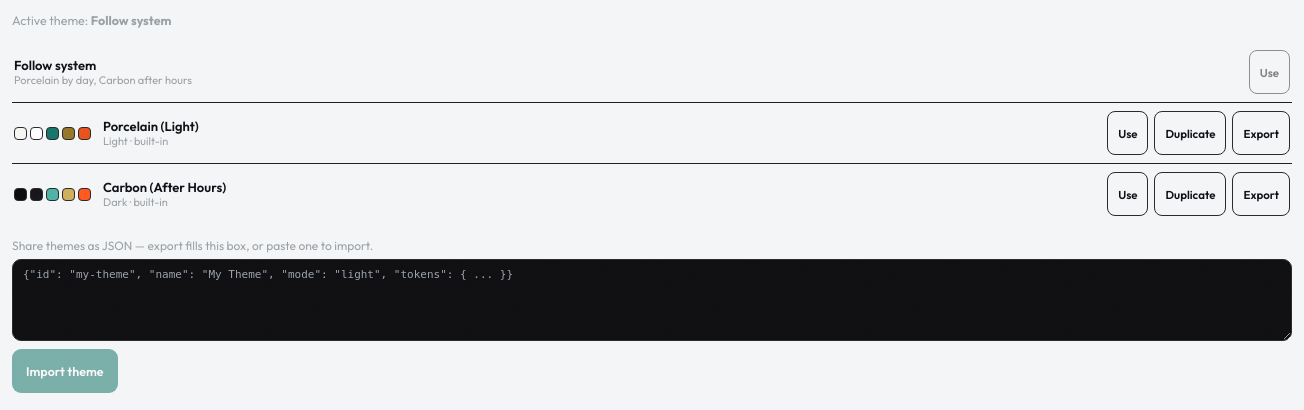
Test: ThemeStudio › activates a theme and persists the selection
The image size is (1304, 410).
Click the button "Use" in the row of "Carbon (After Hours)": {"x": 1128, "y": 194} [1107,172,1148,216]
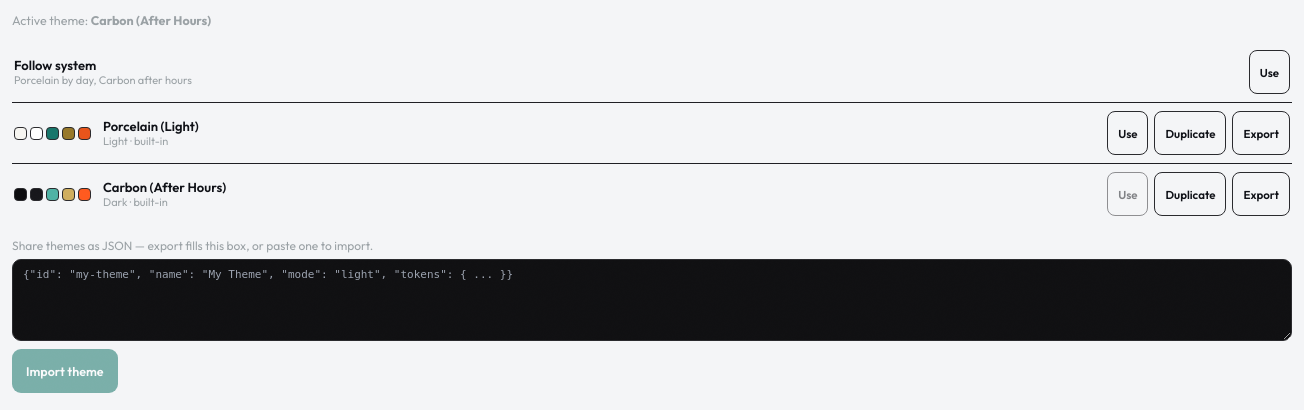
Check: the element with test id "theme-active" shows "Carbon (After Hours)", box [91,12,211,28]
